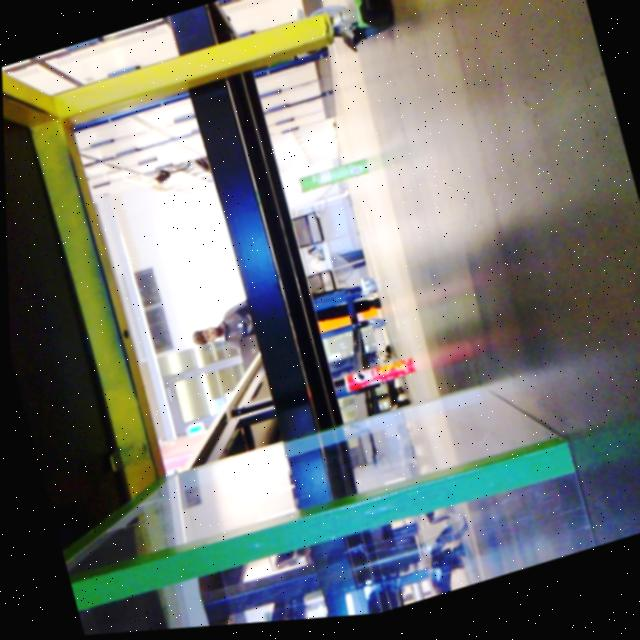greenpringles: (288, 146, 377, 205)
redpringles: (330, 351, 409, 398)
